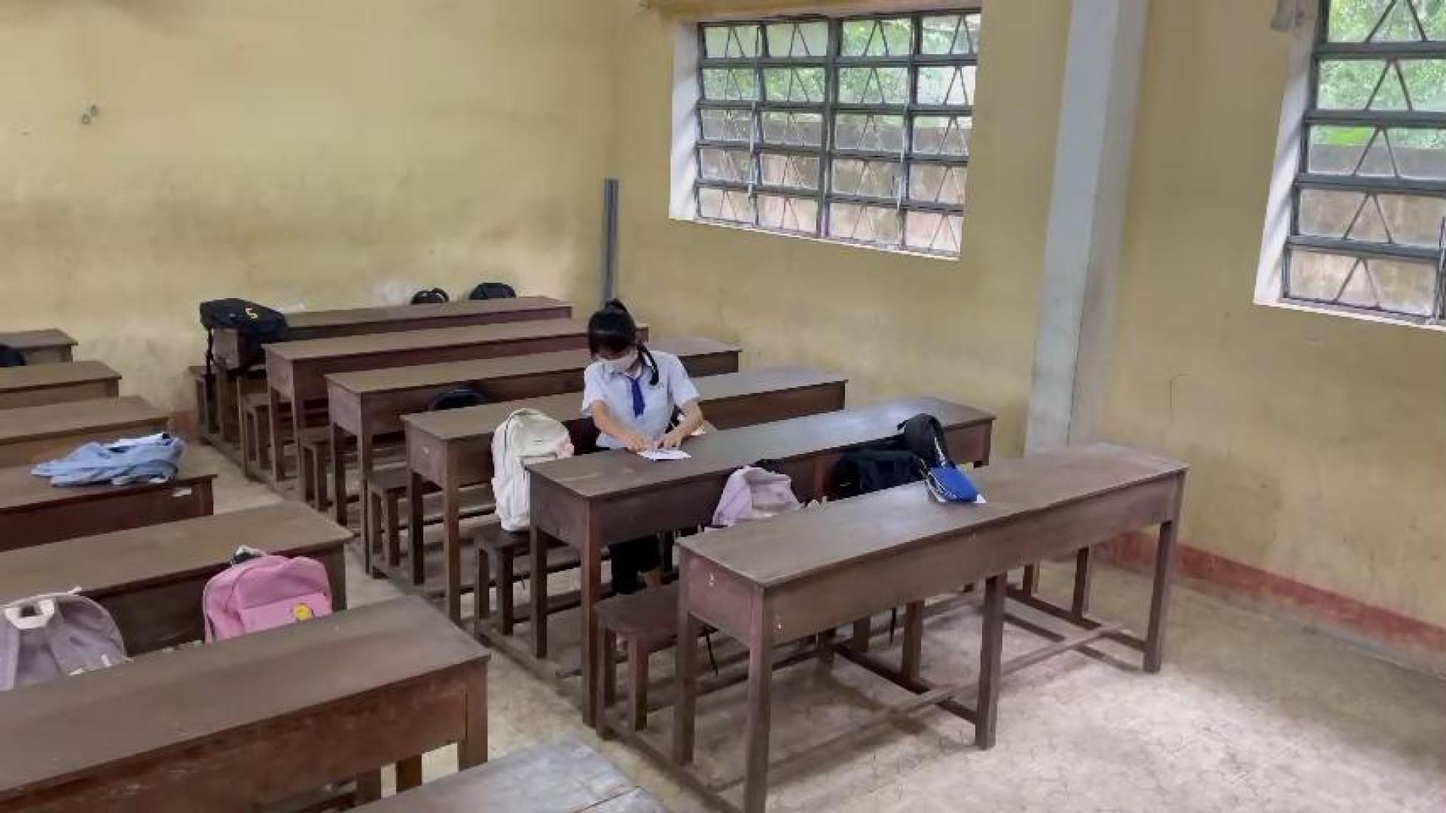Bend Over The Desk: (571, 289, 662, 376)
